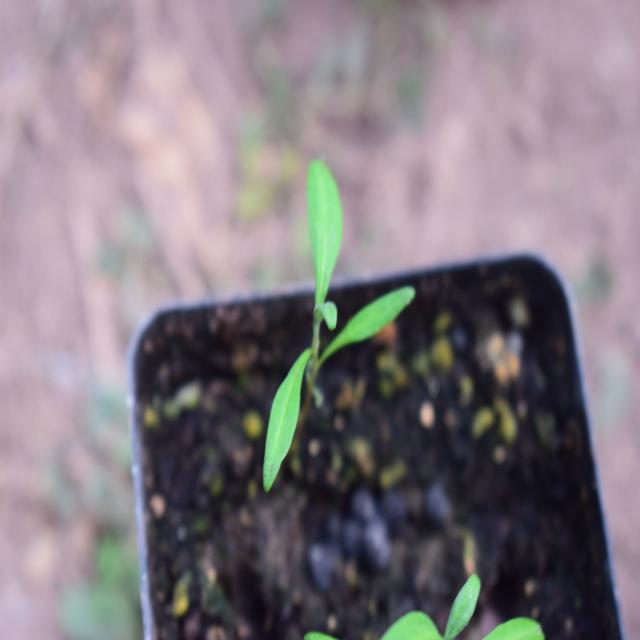white_smart_weed: (254, 142, 420, 531)
